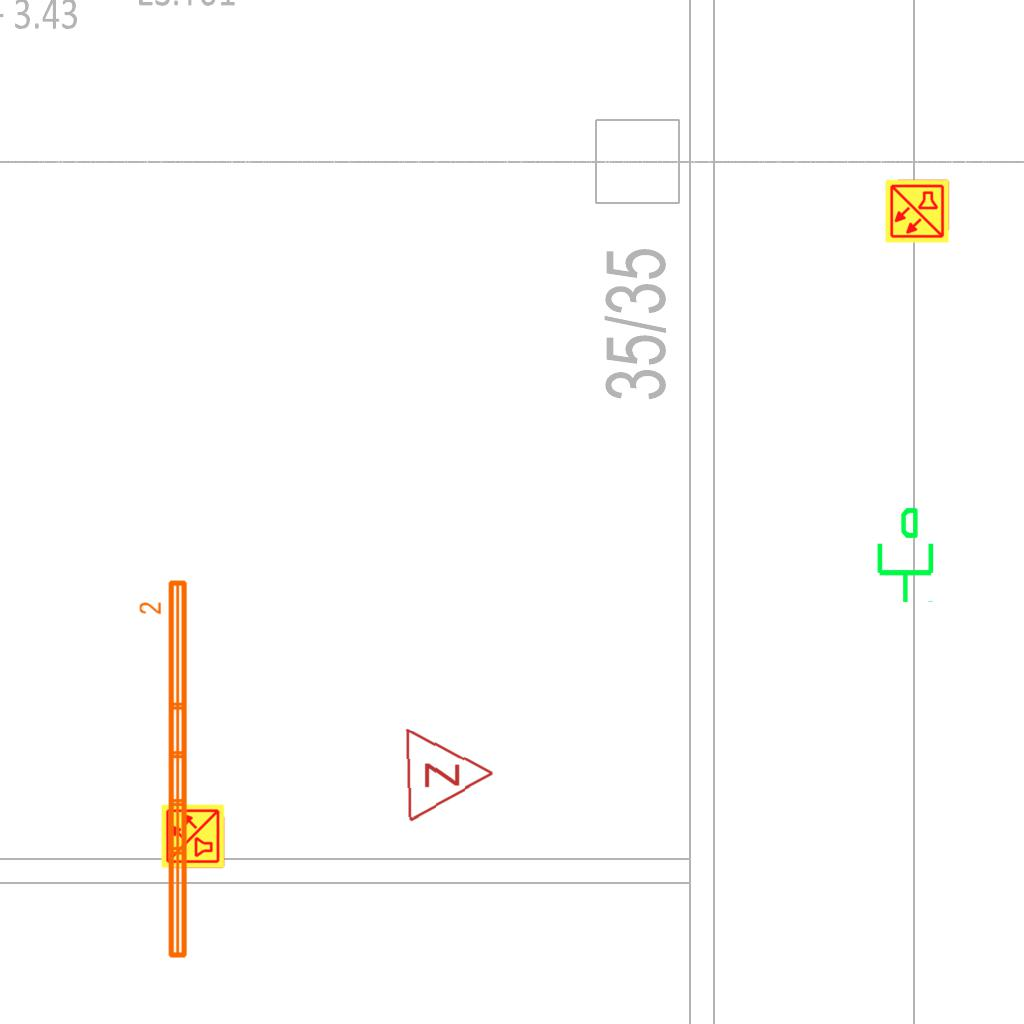Ambulanz_Pendelleuchte_LED: (137, 576, 193, 963)
Datenanschluss_einfach: (869, 505, 938, 605)
OKW_Multisensormelder_(Kombination_optischer_Rauch-Kahlenmonoxid_Waerme-Melder): (160, 803, 226, 869), (884, 178, 950, 244)
Zimmersignalleuchte: (398, 722, 502, 824)
